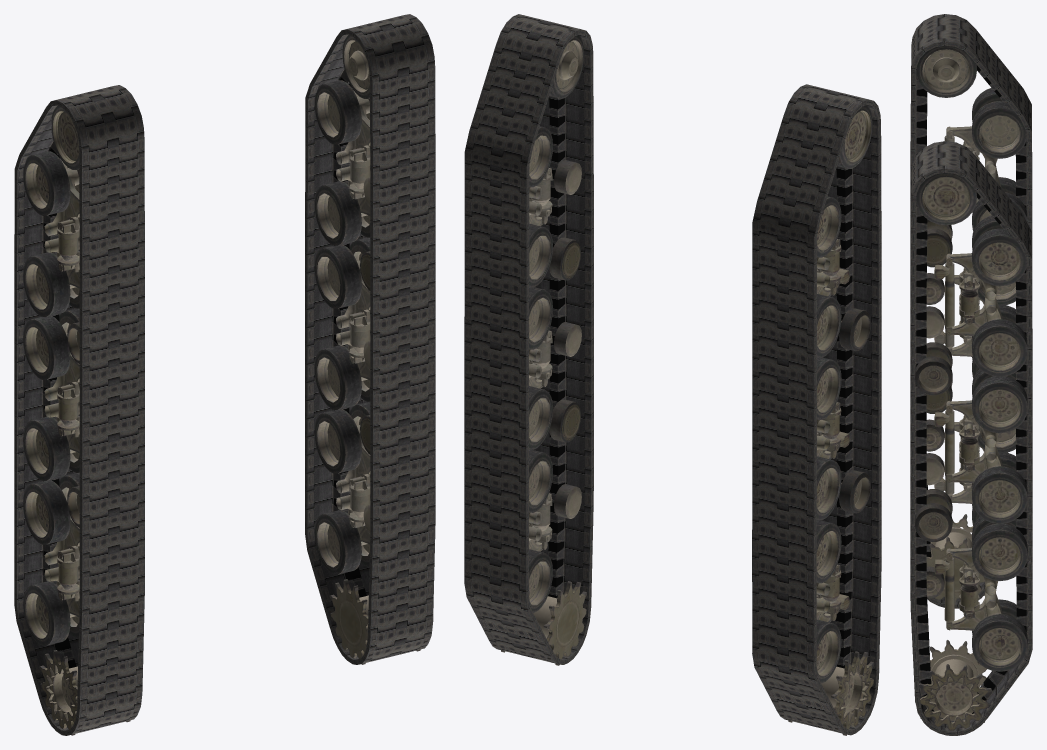
File: Chassis.glb
3 renders of one model, left to right at view 1: azimuth 30°, elevation 25°; view 2: azimuth 150°, elevation 25°; view 3: azimuth 270°, elevation 25°, orthographic. The views are drawn at different scales.
Parts seen in each view (by area): view 1: set_2_group_0, set_3_group_0, set_1_group_0, set_0_group_0; view 2: set_3_group_0, set_2_group_0, set_0_group_0, set_1_group_0; view 3: set_0_group_0, set_2_group_0, set_1_group_0, set_3_group_0.
Part boxes in pixels (x1,y1,x2,y2): set_2_group_0: [305, 14, 435, 664]; set_3_group_0: [14, 85, 144, 735]; set_1_group_0: [23, 105, 140, 735]; set_0_group_0: [314, 35, 430, 664]; set_3_group_0: [752, 84, 881, 735]; set_2_group_0: [464, 14, 593, 664]; set_0_group_0: [493, 35, 586, 665]; set_1_group_0: [780, 105, 874, 735]; set_0_group_0: [915, 173, 1027, 730]; set_2_group_0: [910, 141, 1032, 735]; set_1_group_0: [916, 45, 1027, 602]; set_3_group_0: [910, 14, 1032, 608].
Size of the model in its own units: 3.33 by 5.71 by 1.11.
4 materials, 4 textured.
